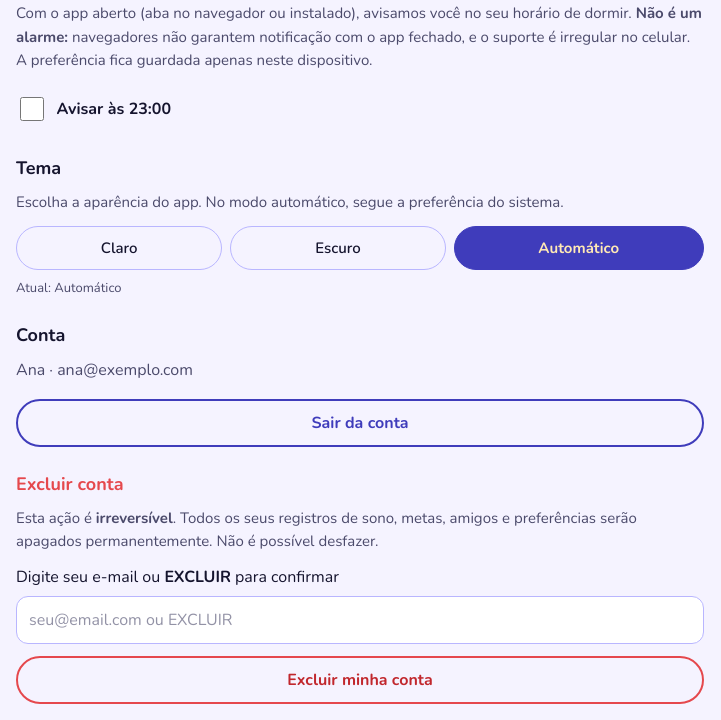
tela de Configurações › recusa exclusão com confirmação inválida
The width and height of the screenshot is (721, 720).
(page scrolled)
Type "errado" into the field with placeholder "seu@email.com ou EXCLUIR" at (360, 620), box x1=16 y1=596 x2=704 y2=644
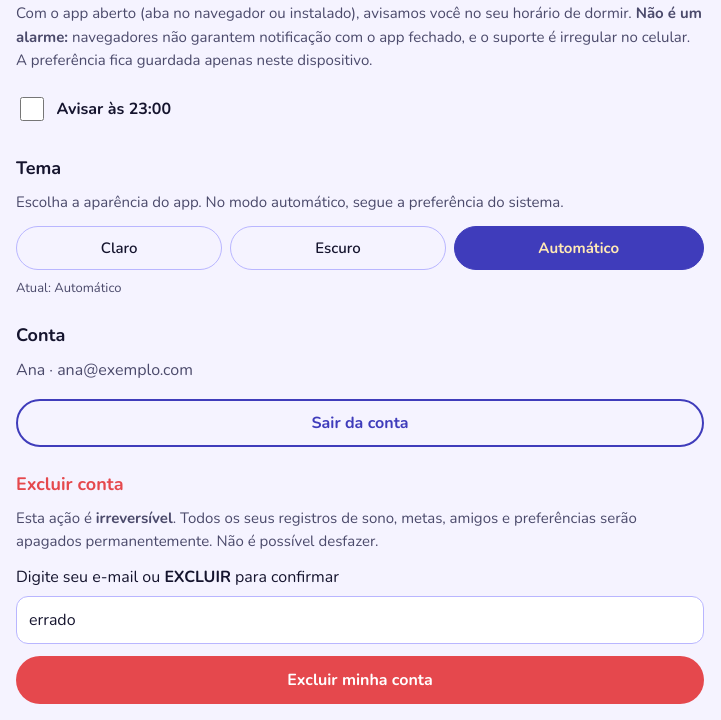
Click the button "Excluir minha conta" at (360, 680), box x1=16 y1=656 x2=704 y2=704
(page scrolled)
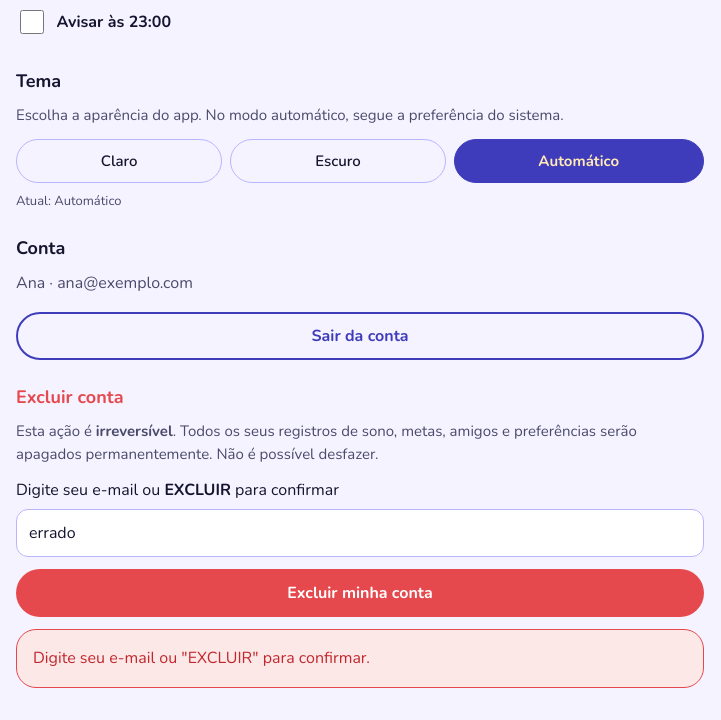
Result: the message "Digite seu e-mail ou \"EXCLUIR\" para confirmar." is shown at x1=16 y1=629 x2=704 y2=688
Result: the message shows "Digite seu e-mail ou \"EXCLUIR\"" at x1=33 y1=647 x2=370 y2=669
